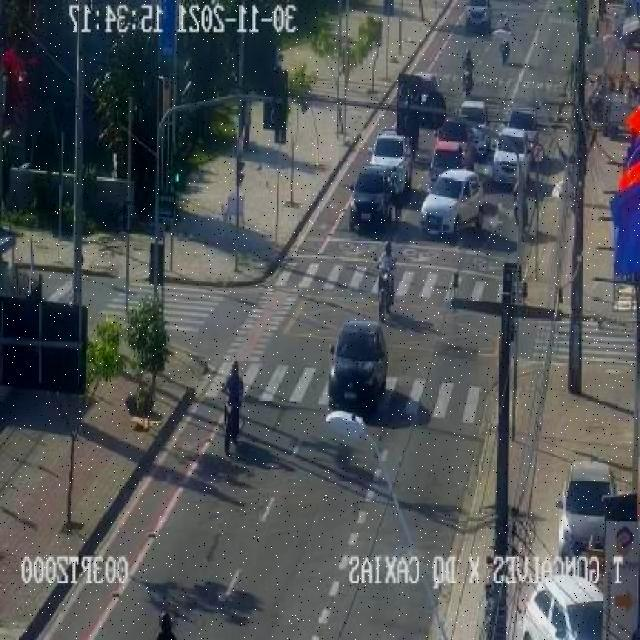Car: (547, 459, 627, 563), (516, 556, 608, 640), (322, 324, 398, 415), (417, 170, 478, 242), (345, 168, 400, 235), (484, 132, 538, 187), (364, 123, 410, 184), (423, 122, 471, 168), (449, 103, 495, 148), (501, 106, 539, 154), (456, 0, 492, 44)
Cycle: (209, 342, 256, 453), (369, 227, 407, 316), (448, 51, 488, 98), (493, 18, 516, 66)
